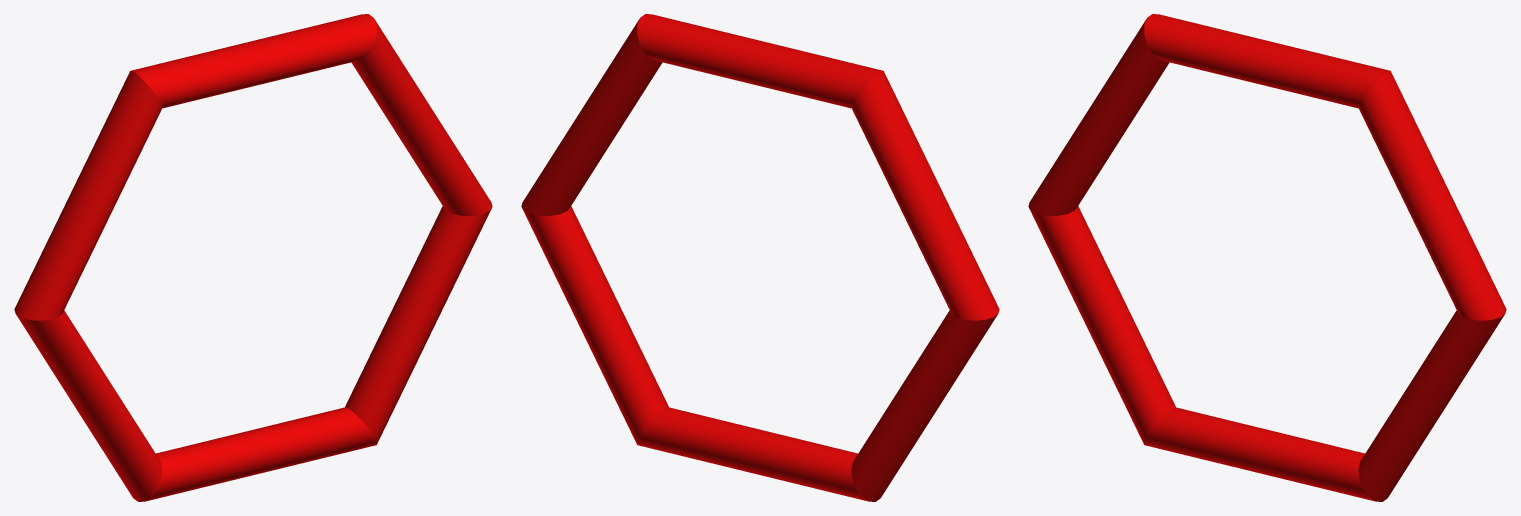
File: hexagon.fbx
3 views of the same model, side by side, from view 1: azimuth 30°, elevation 25°; view 2: azimuth 150°, elevation 25°; view 3: azimuth 330°, elevation 25° (orthographic).
Visible parts, largest first — view 1: Triangle; view 2: Triangle; view 3: Triangle.
Boxes of the visible parts, x1,y1,x2,y2 form: Triangle: (14, 14, 492, 501); Triangle: (521, 14, 999, 501); Triangle: (1028, 14, 1506, 501).
Bounding box in the file's own units: 10.98 × 9.51 × 0.9945.
